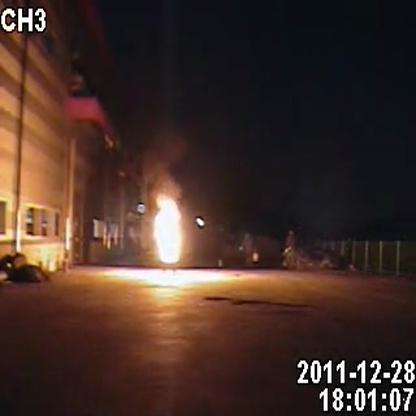Fire: (153, 191, 184, 267)
